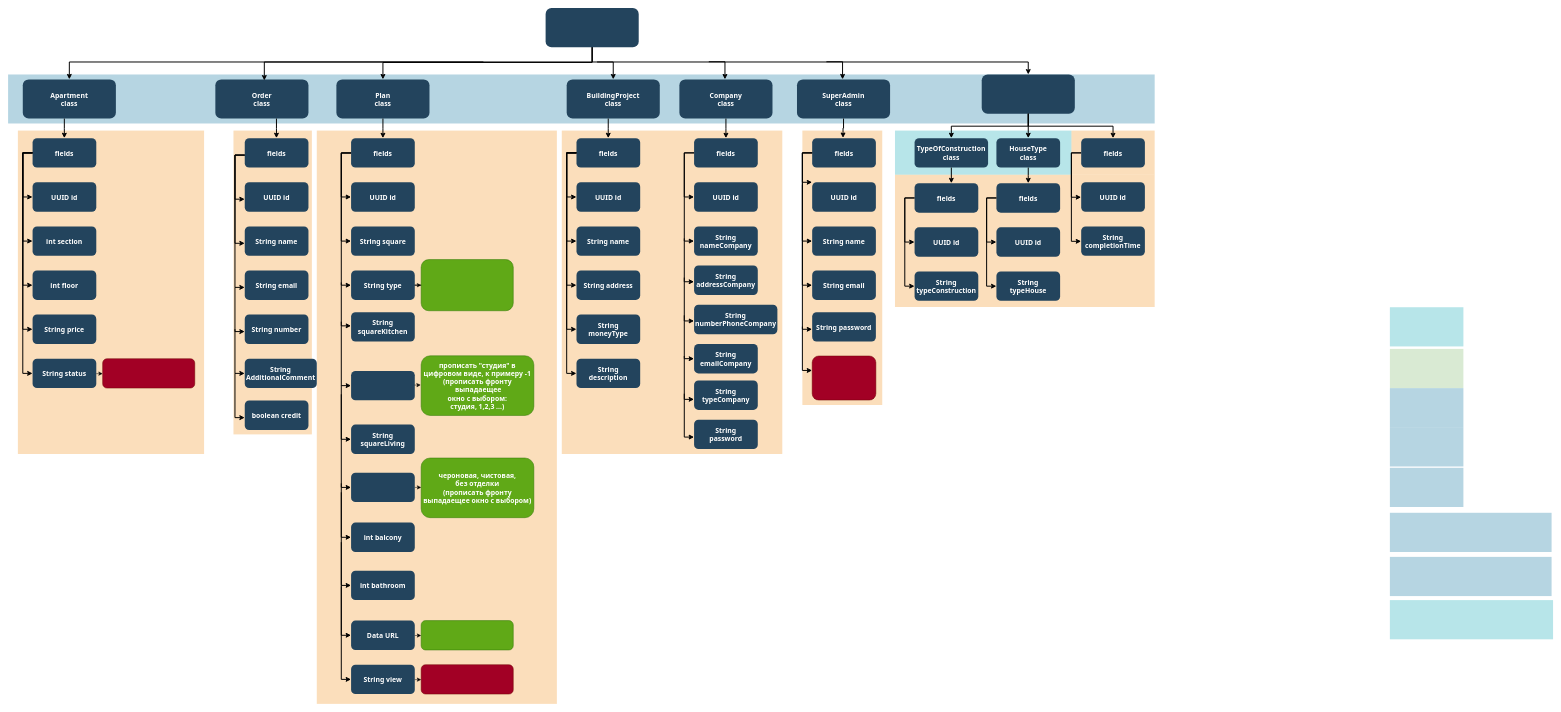
The diagram is 1561 pixels wide and 712 high, and some of its shapes have lost their labels. The shapes that lost their labels are listed below. From the top down, each one's centre as x and y in pixels, then its label:
At [591,27]: "Buildings Tandem".
At [1028,93]: "Building class".
At [467,285]: "жилое или не жилое помещение (прописать фронту выпадаещее окно с выбором)".
At [148,373]: "или нужен Enum? продано, забронировано, в продаже.".
At [383,385]: "int room".
At [844,377]: "Enum setOfRights нужен ли енам с набором прав?".
At [383,487]: "String apartmentDecor".
At [467,635]: "загрузка схемы планировки".
At [467,679]: "или нужен Enum с видами из окна?".
